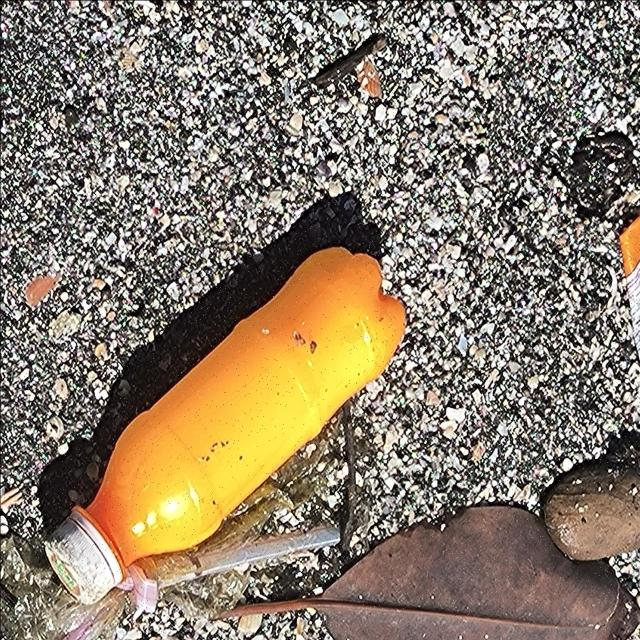plastic_waste: (44, 248, 407, 605)
